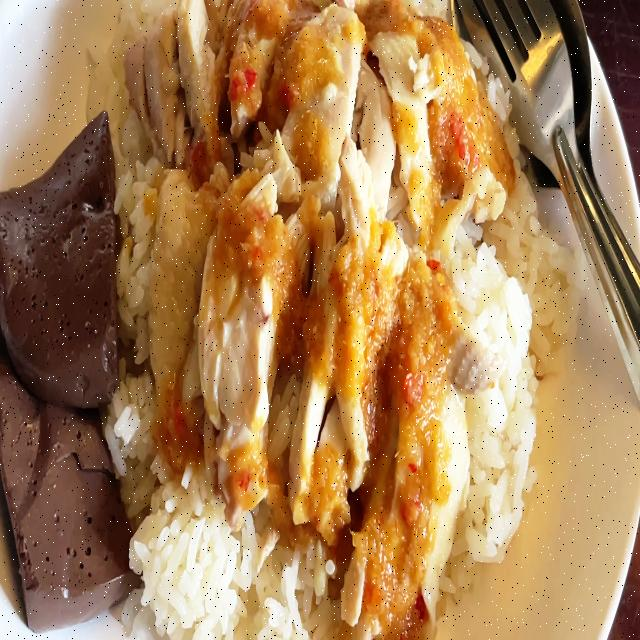boiled_chicken: (135, 188, 476, 554), (134, 0, 507, 218)
boiled_chicken_blood_jelly: (4, 108, 117, 395), (0, 367, 128, 607)
chicken_rice: (0, 0, 581, 640)
rice: (478, 245, 542, 547), (146, 507, 262, 637), (517, 206, 576, 344)
